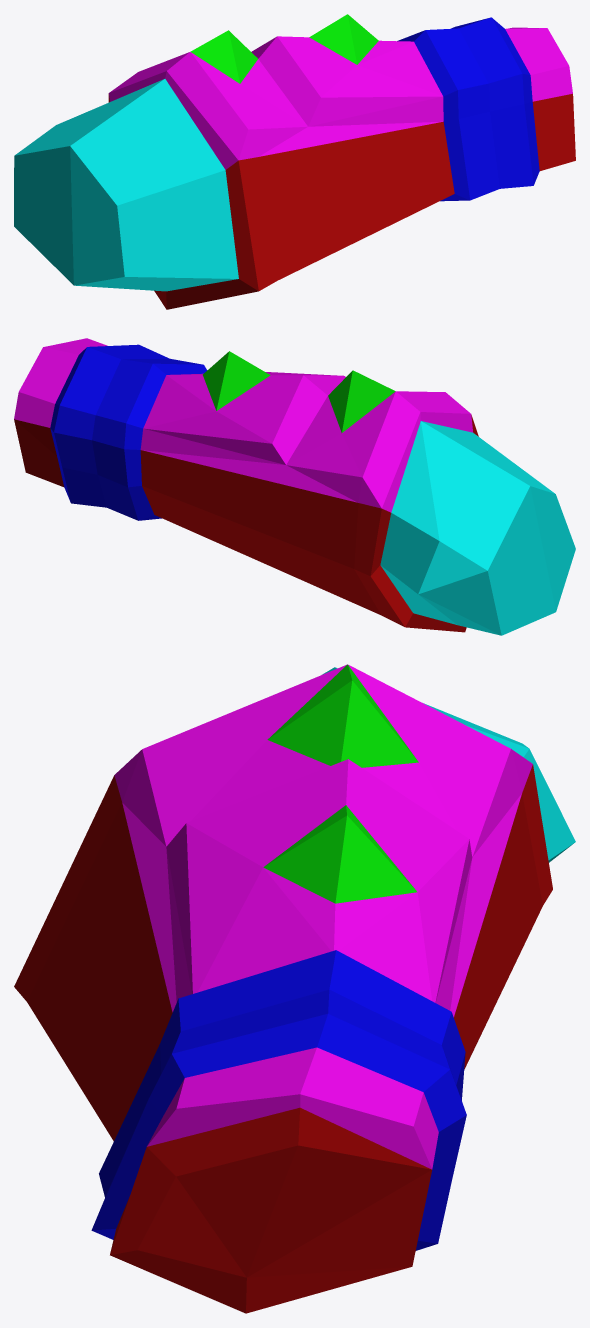
File: Chr_ArmLowerLeft_Male_Static_01.fbx
3 renders of one model, top to bottom at view 1: azimuth 30°, elevation 25°; view 2: azimuth 150°, elevation 25°; view 3: azimuth 270°, elevation 25°, orthographic. The views are drawn at different scales.
Visible parts, largest first — view 1: Chr_ArmLowerLeft_Male_01; view 2: Chr_ArmLowerLeft_Male_01; view 3: Chr_ArmLowerLeft_Male_01.
Part boxes in pixels (x1,y1,x2,y2): Chr_ArmLowerLeft_Male_01: (14, 14, 575, 309); Chr_ArmLowerLeft_Male_01: (14, 338, 575, 635); Chr_ArmLowerLeft_Male_01: (14, 664, 575, 1313).
Bounding box in the file's own units: 28.96 × 13.85 × 14.84.
